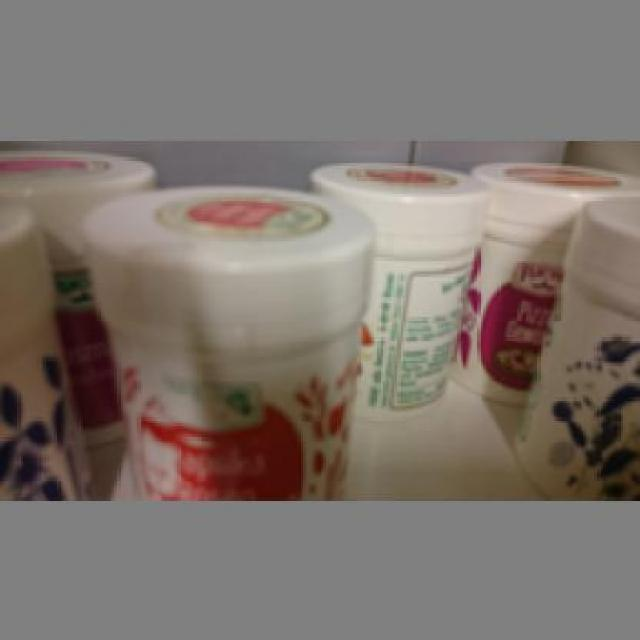Spices: (76, 182, 370, 498), (314, 162, 490, 415), (505, 192, 638, 494)
